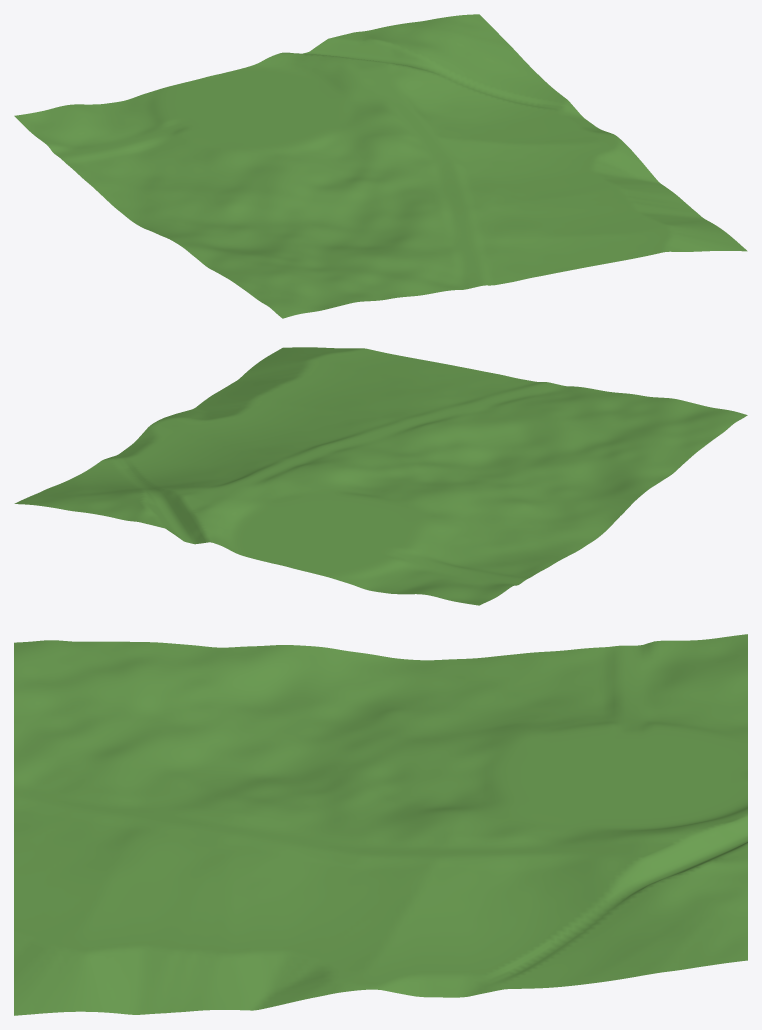
Rendered from SM_Terrain_06_04.fbx.
The picture shows the model from 3 angles, top to bottom: view 1: azimuth 30°, elevation 25°; view 2: azimuth 150°, elevation 25°; view 3: azimuth 270°, elevation 25°; orthographic projection. The views are drawn at different scales.
Visible parts, largest first — view 1: SM_Terrain_06_04; view 2: SM_Terrain_06_04; view 3: SM_Terrain_06_04.
Part boxes in pixels (x1,y1,x2,y2): SM_Terrain_06_04: [14, 14, 747, 318]; SM_Terrain_06_04: [14, 347, 747, 605]; SM_Terrain_06_04: [14, 634, 747, 1015].
Bounding box in the file's own units: 384 × 42.91 × 384.
